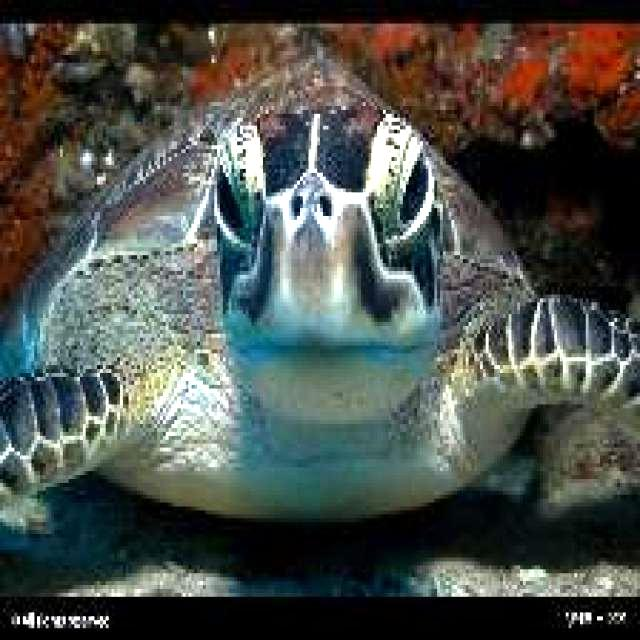Sea turtle: (0, 47, 640, 544)
